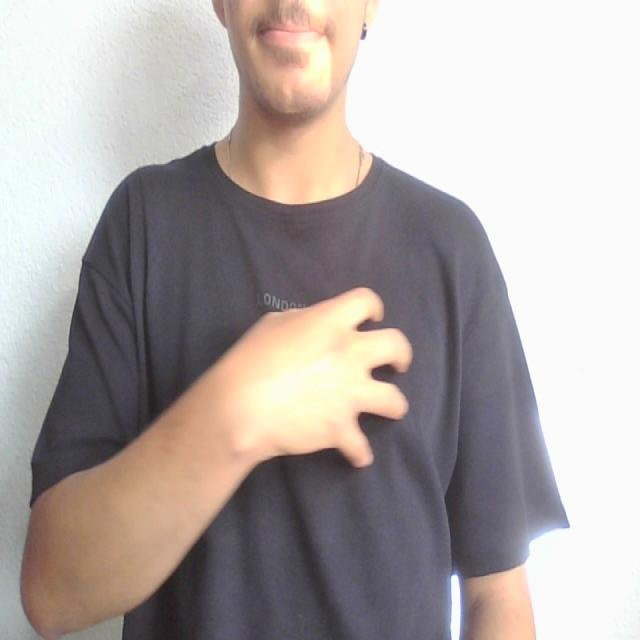Anne: (77, 232, 513, 492)
